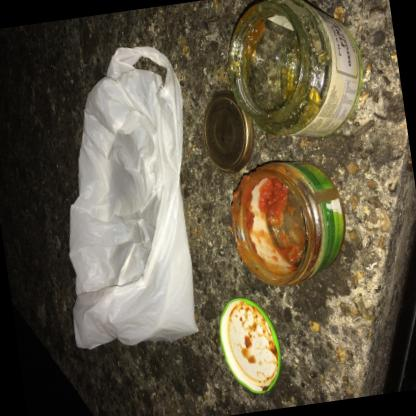Glass: (228, 0, 362, 135), (231, 159, 345, 285)
Metal: (219, 296, 281, 392), (203, 89, 253, 172)
Plastic: (69, 42, 198, 348)
